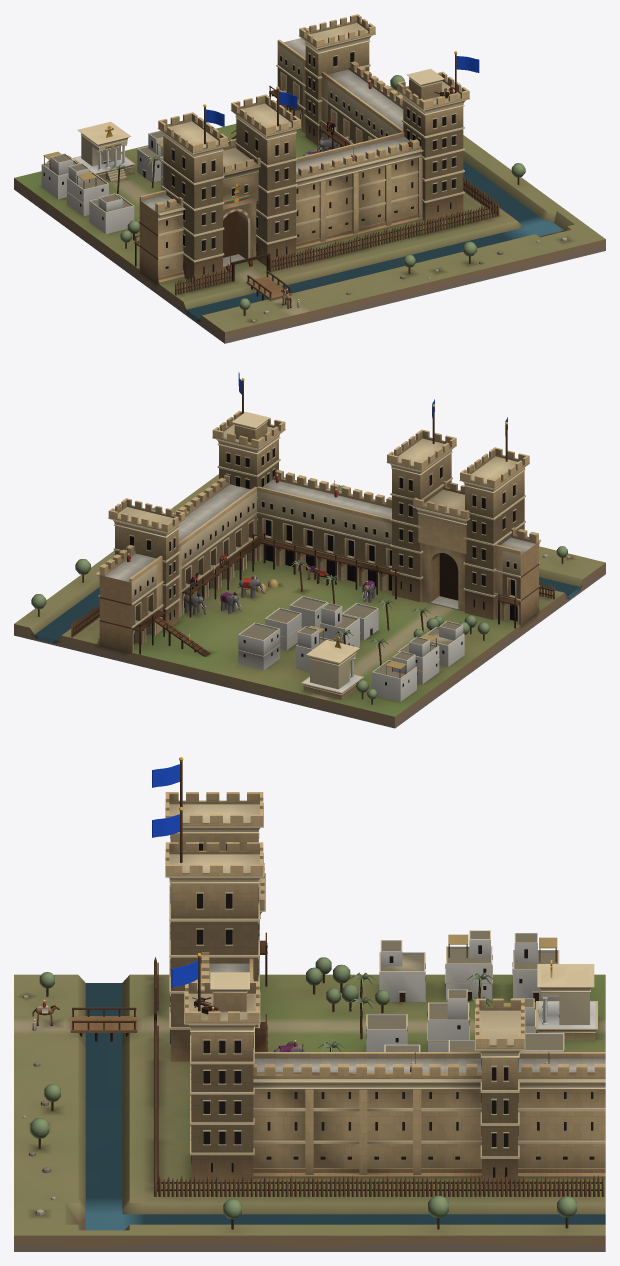
File: lm_kartacasur.glb
3 renders of one model, top to bottom at view 1: azimuth 30°, elevation 25°; view 2: azimuth 150°, elevation 25°; view 3: azimuth 270°, elevation 25°, orthographic. The views are drawn at different scales.
Parts seen in each view (by area): view 1: lm_kartacasur; view 2: lm_kartacasur; view 3: lm_kartacasur.
Boxes of the visible parts, x1,y1,x2,y2 form: lm_kartacasur: [14, 14, 605, 343]; lm_kartacasur: [14, 372, 605, 728]; lm_kartacasur: [14, 757, 605, 1251].
Size of the model in its own units: 2.4 by 1.12 by 2.3.
1 material, 1 textured.
